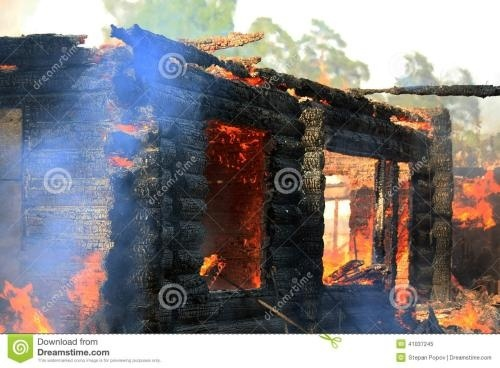fire: (452, 161, 500, 227), (0, 278, 54, 334), (198, 251, 222, 277)
